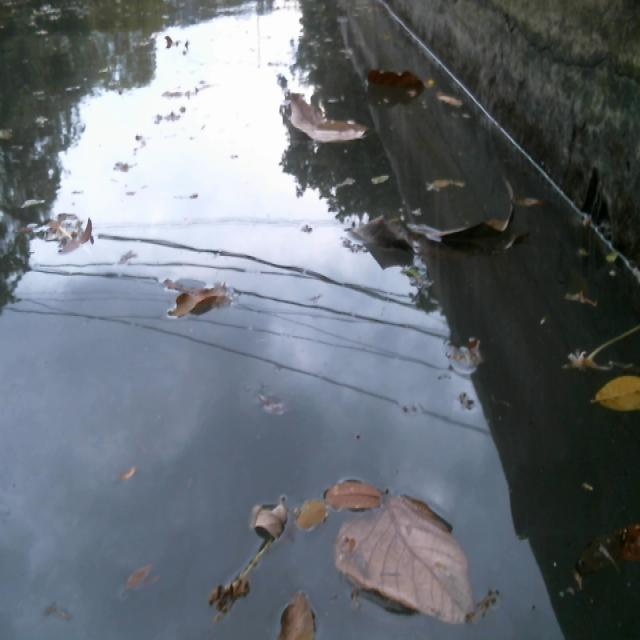Big-leaf: (338, 505, 493, 625), (215, 489, 291, 628), (406, 210, 549, 254), (574, 511, 640, 601), (283, 89, 374, 152), (558, 313, 639, 377), (346, 202, 415, 268), (365, 63, 433, 99), (285, 590, 313, 640)
Small-leaf: (171, 278, 234, 317), (322, 473, 388, 510), (592, 367, 640, 416), (445, 333, 485, 372), (120, 558, 158, 598), (296, 493, 329, 532), (36, 217, 75, 249), (422, 172, 470, 196), (563, 283, 598, 314), (40, 597, 77, 625), (71, 221, 97, 258), (256, 389, 288, 418), (438, 85, 464, 117), (456, 387, 482, 411), (112, 461, 140, 483), (163, 32, 191, 54), (112, 158, 141, 177), (20, 192, 47, 212), (161, 86, 188, 104), (155, 110, 182, 128), (368, 168, 390, 190), (298, 215, 315, 242), (0, 122, 17, 144), (605, 249, 617, 264)
